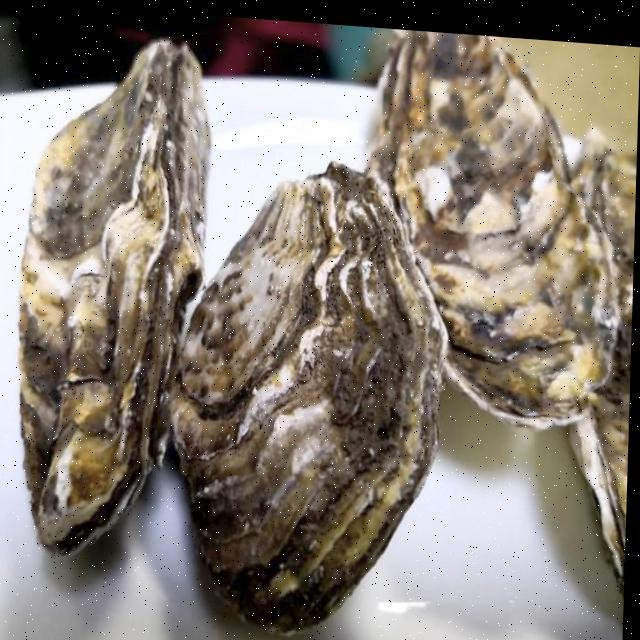Oyster-Closed: (155, 144, 456, 640), (8, 26, 215, 573)
Oyster-Indeterminate: (361, 28, 632, 443), (544, 121, 637, 594)
